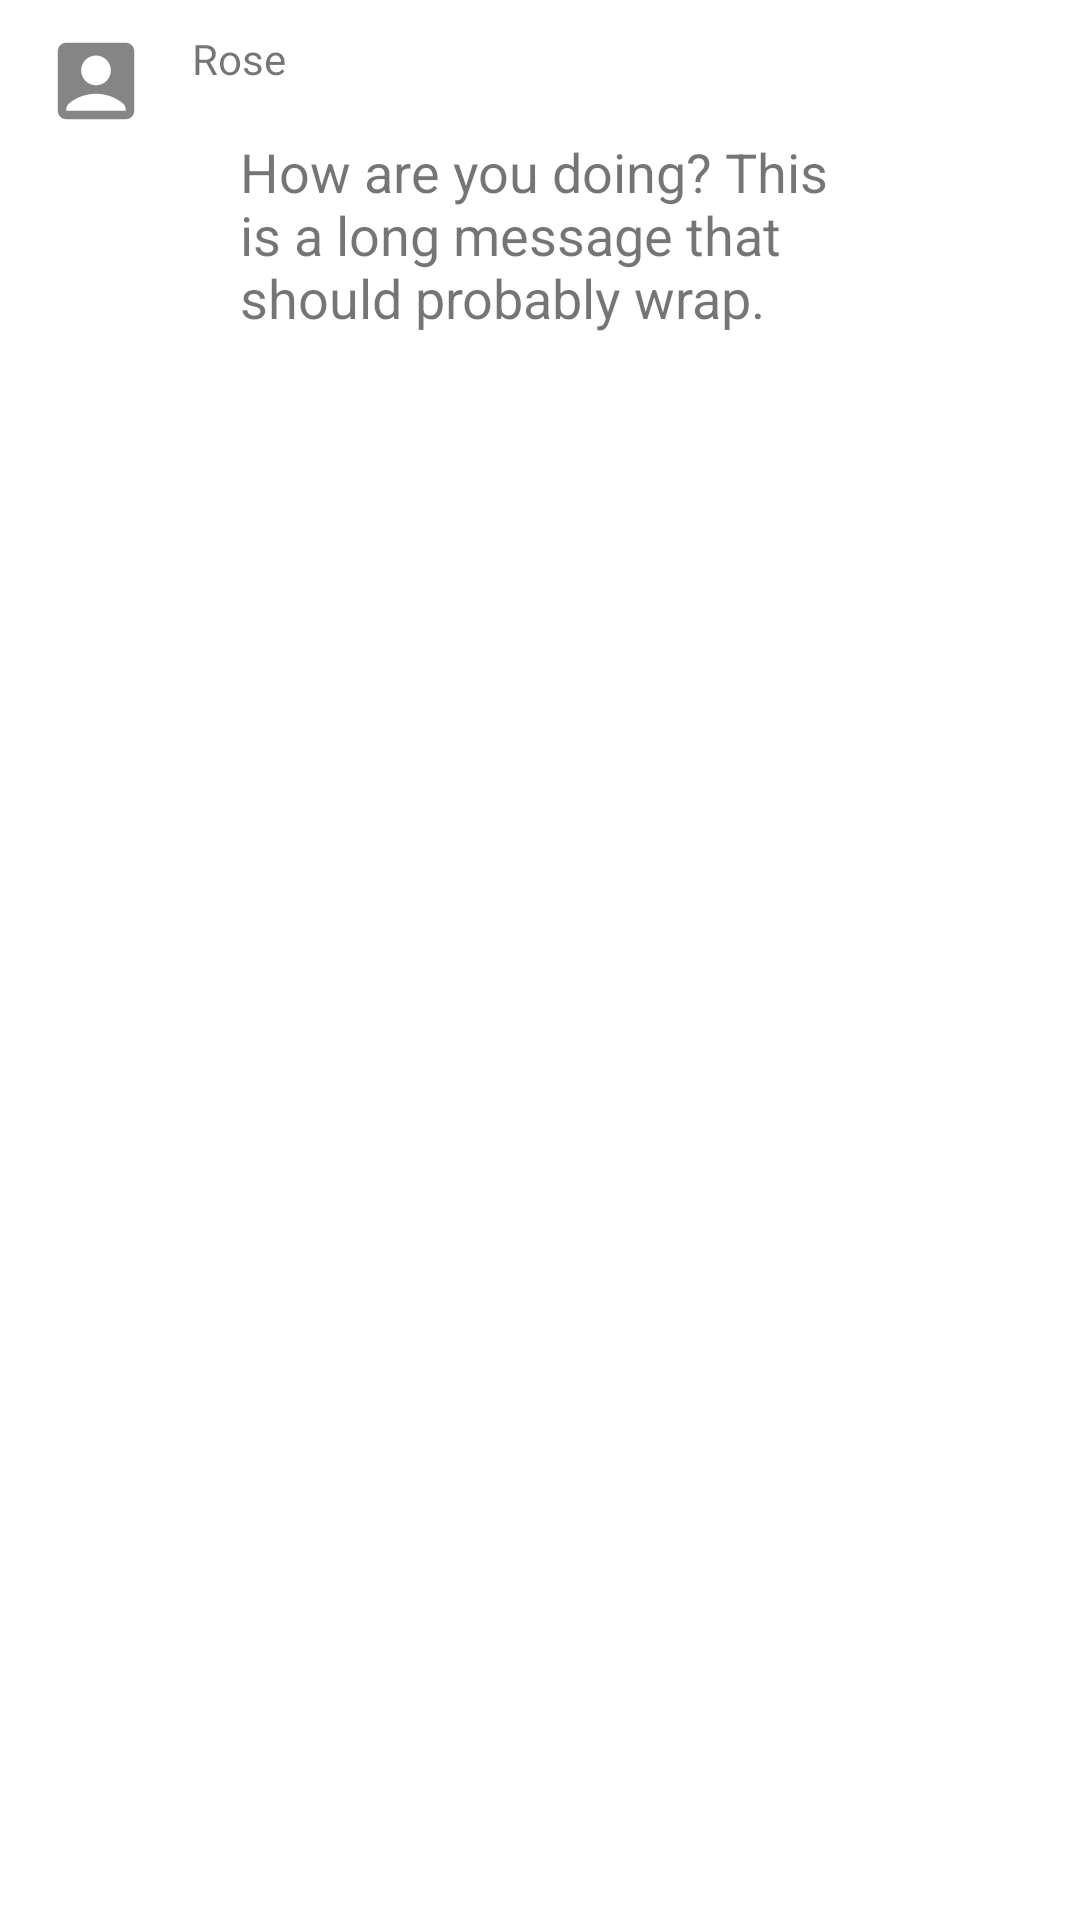

Where to tap for icons on this 1080px x 1920px app screen, as point (x, y):
account: point (96, 81)
